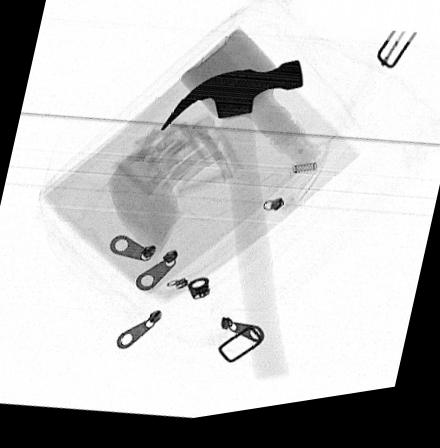Hammer: (158, 67, 303, 389)
